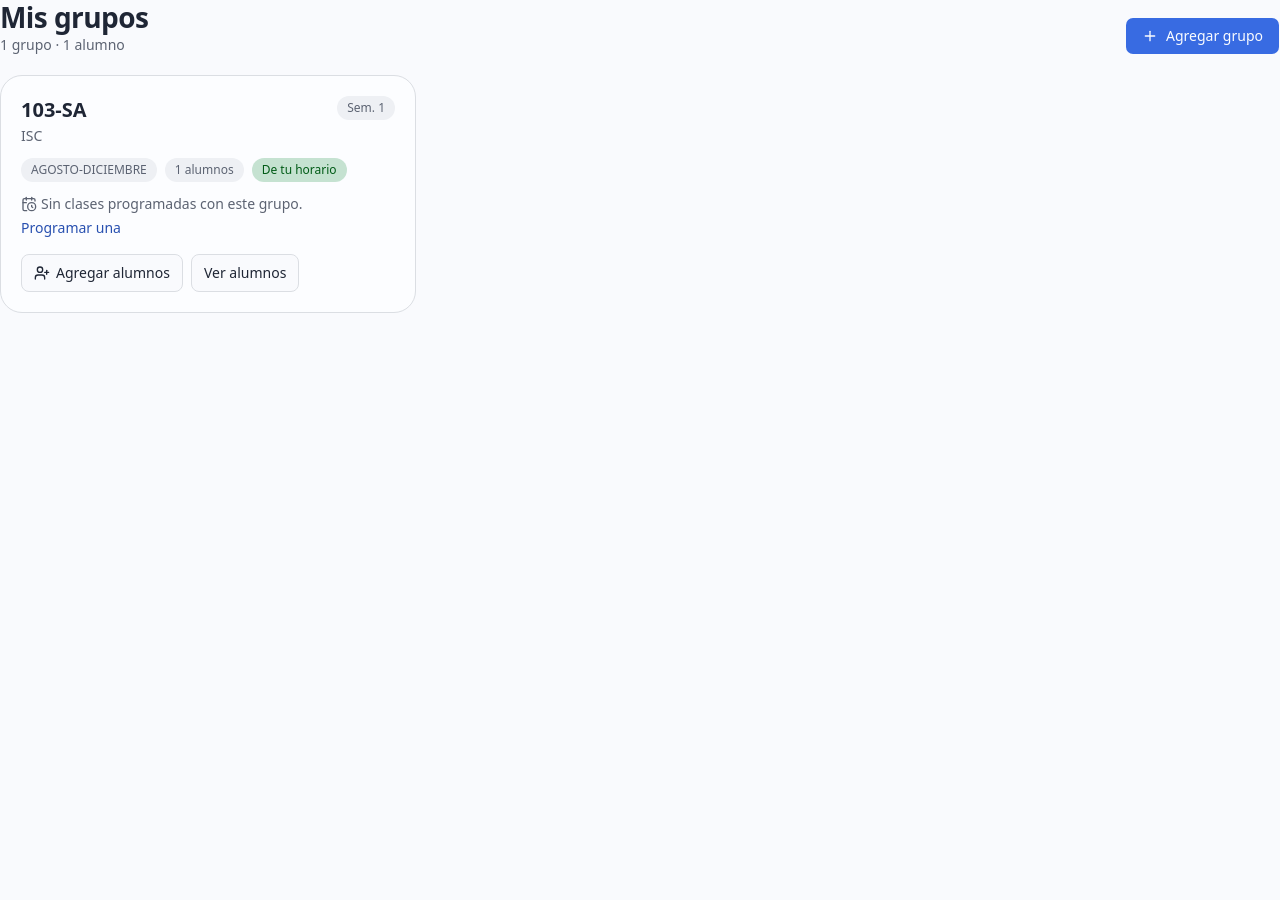
Editar lista asigna el sexo con un clic sin recargar la lista
Click the button "Ver alumnos".
click(245, 273)  # box [191,254,299,292]
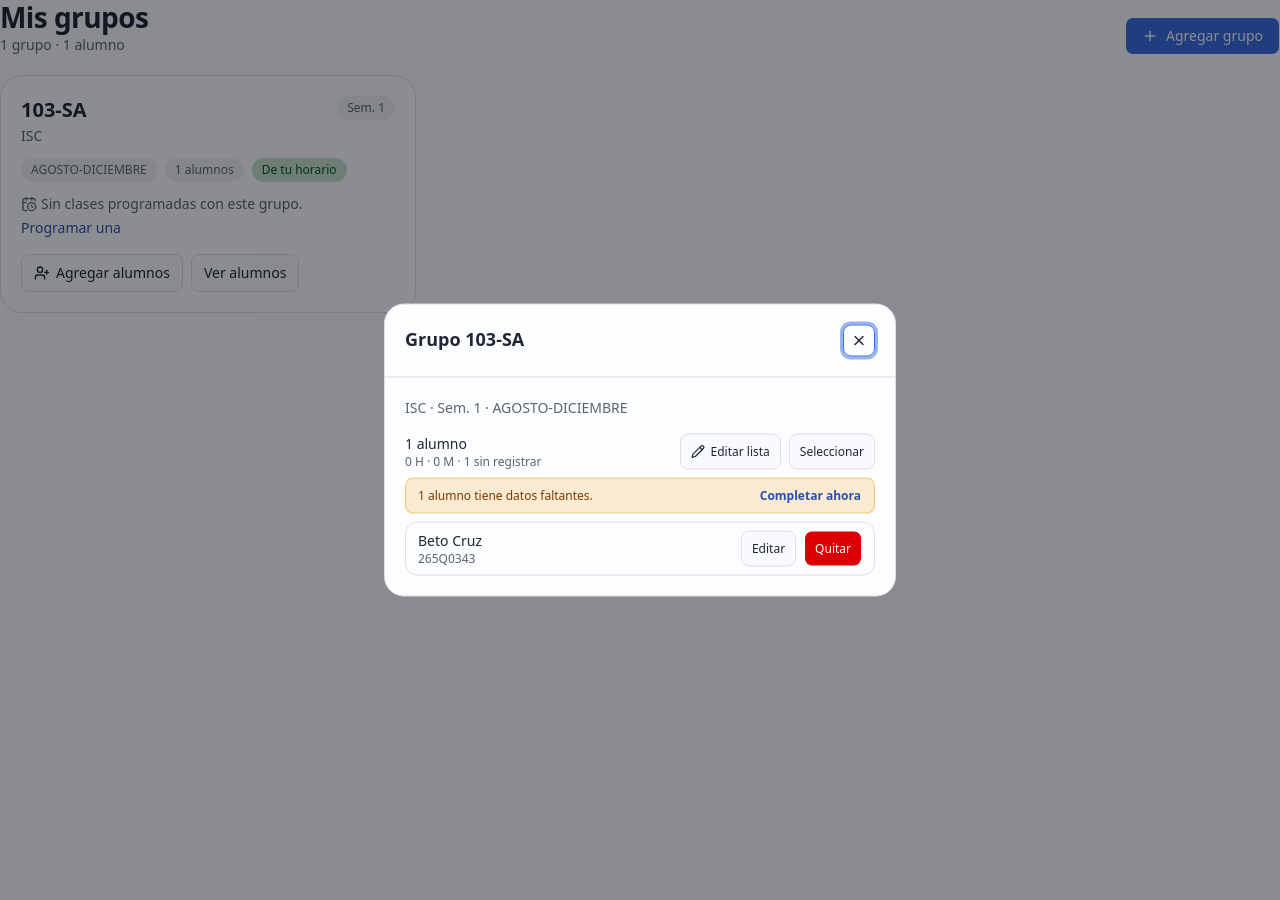
Click the button "Editar lista".
click(730, 452)  # box [680,434,781,470]
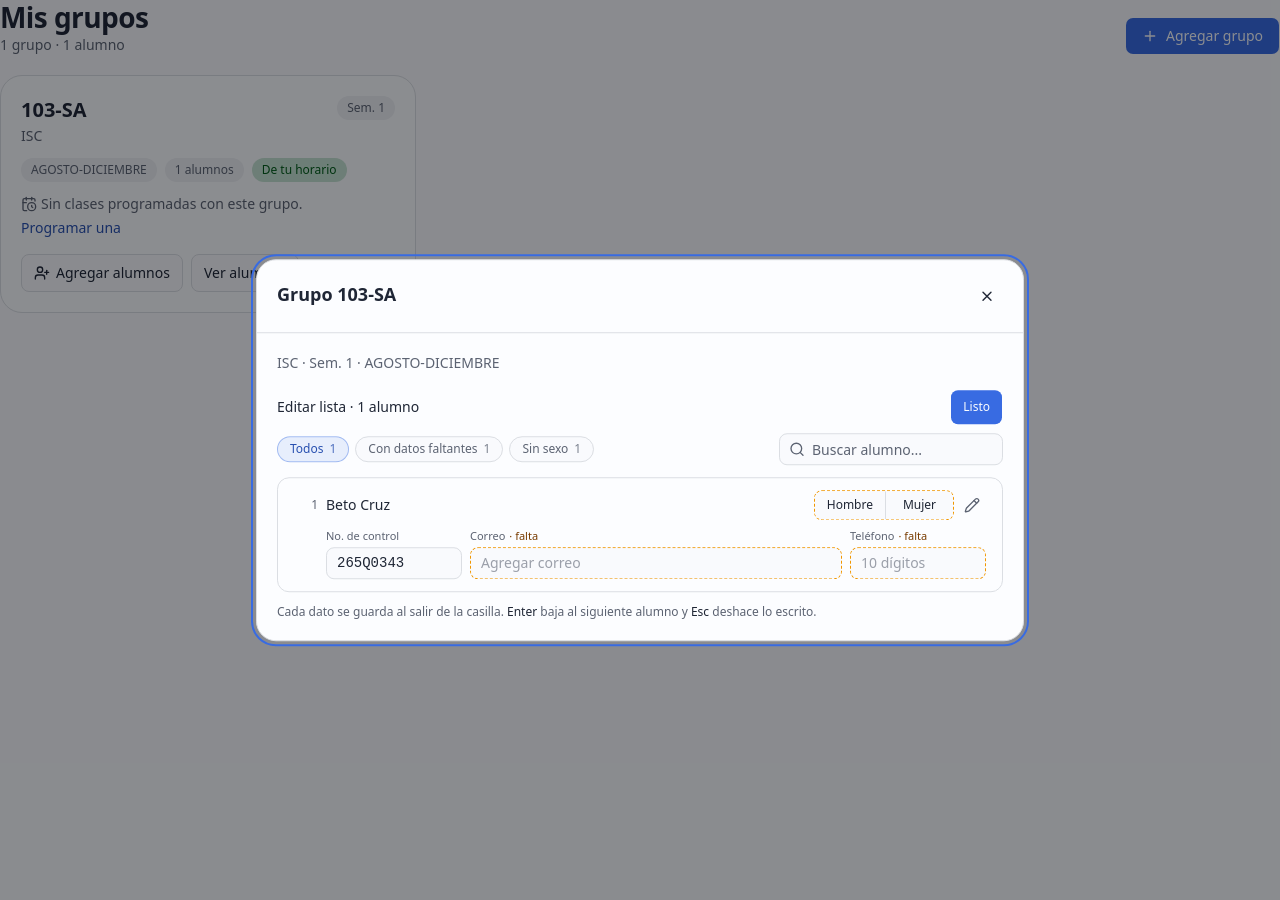
Click the button "Hombre".
click(850, 505)  # box [815,491,885,519]
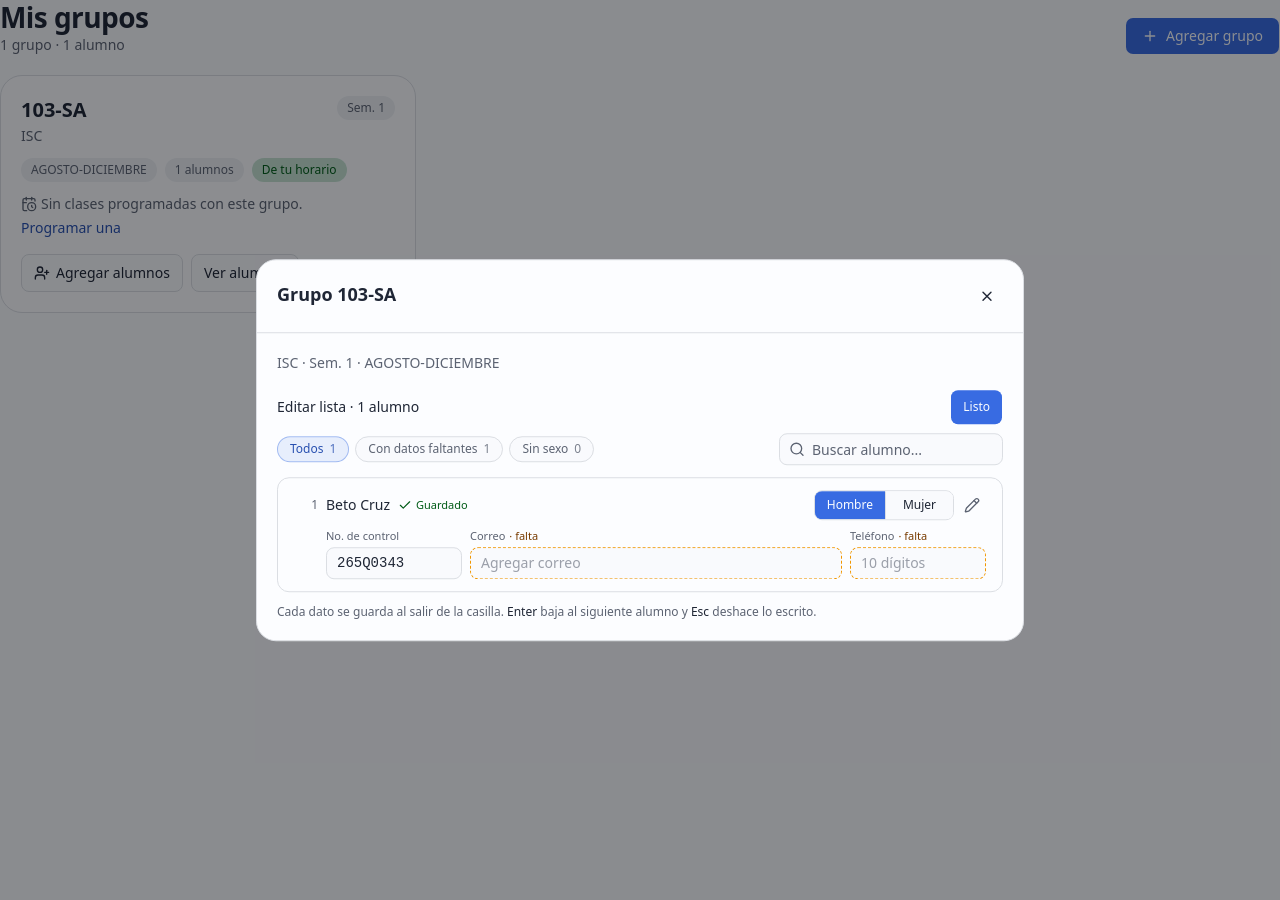
Expected: the text "Guardado" is shown, [398,497,468,514]
